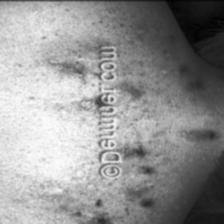Non-Cancerous Skin Condition: (125, 118, 176, 186), (60, 193, 164, 224), (172, 52, 220, 110), (41, 44, 87, 96), (204, 120, 220, 146)
